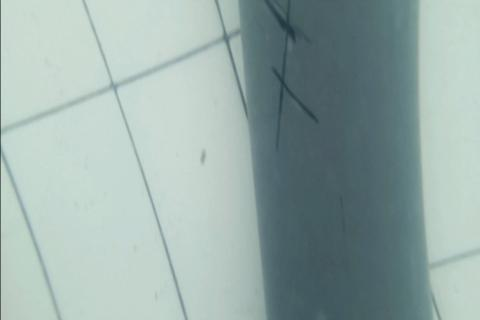keretakan: (261, 0, 320, 154)
